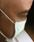with_mask: (1, 2, 34, 42)
